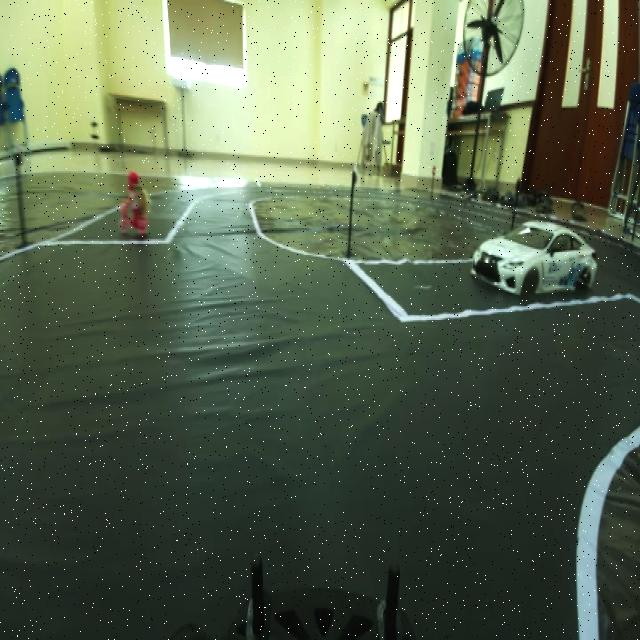car: (461, 210, 594, 294)
